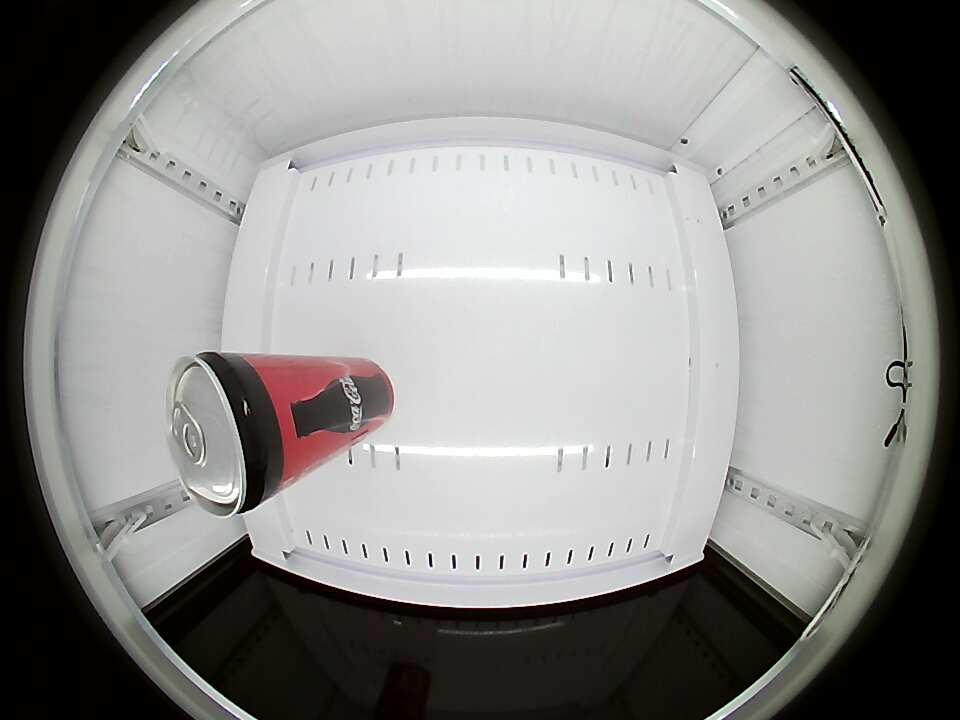lingdukele: (166, 351, 292, 518)
